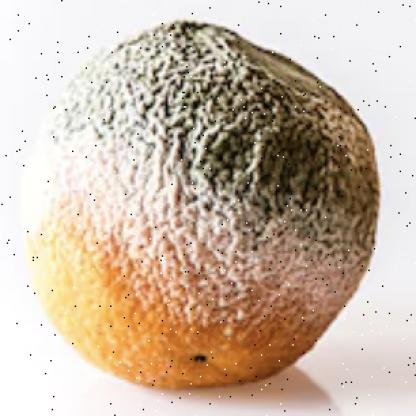rotten: (17, 19, 380, 386)
